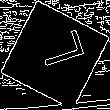L_W: (26, 32, 84, 78)
